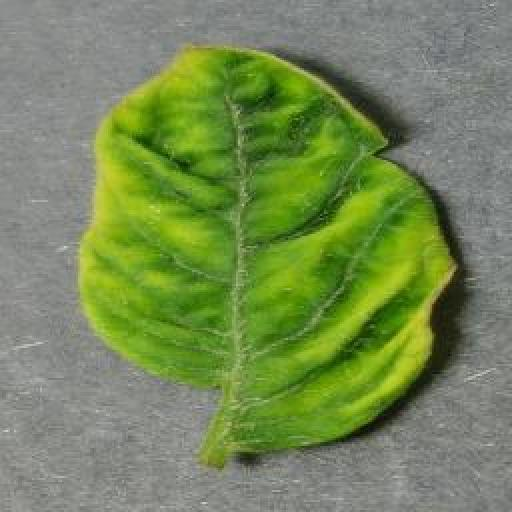disease_tomato: (76, 42, 458, 456)
